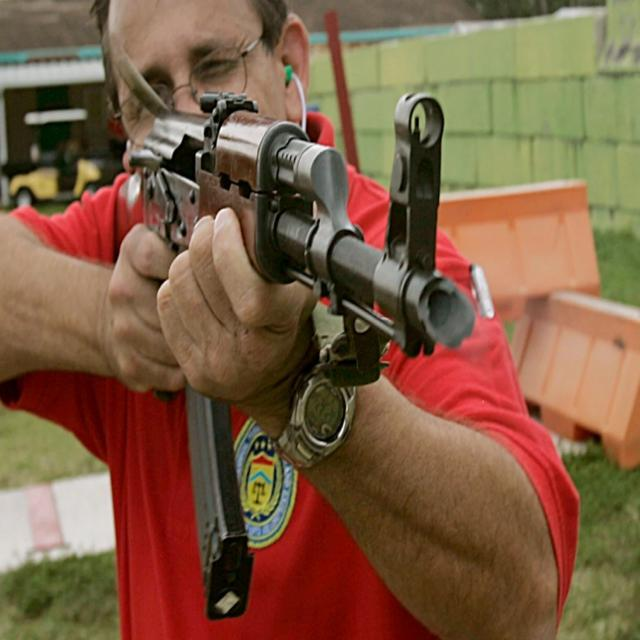ak: (128, 81, 464, 609)
